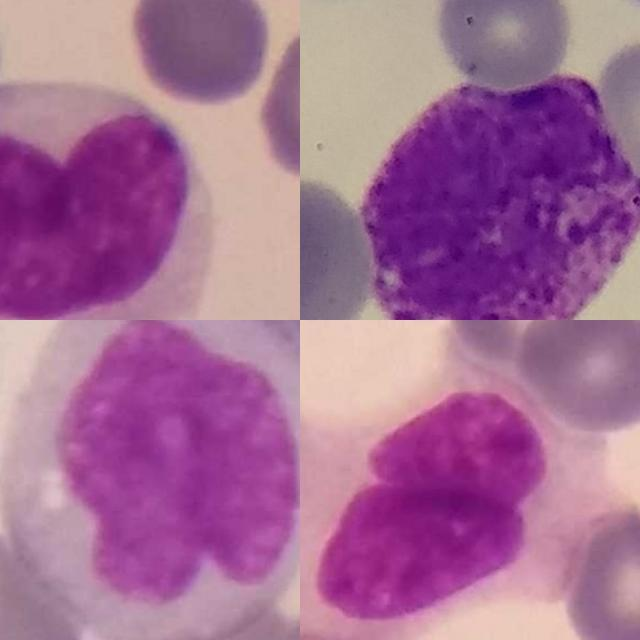Basophil: (361, 72, 640, 320)
Monocyte: (0, 320, 300, 640), (300, 370, 624, 640), (0, 84, 219, 320)
